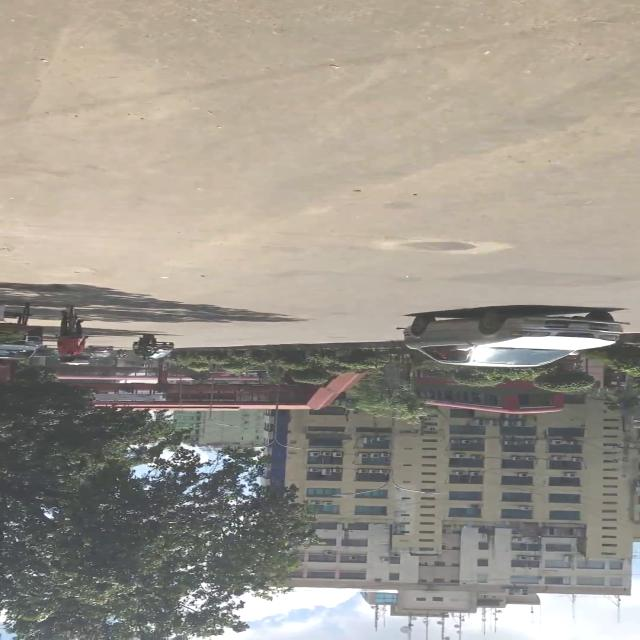silver: (391, 309, 624, 366)
